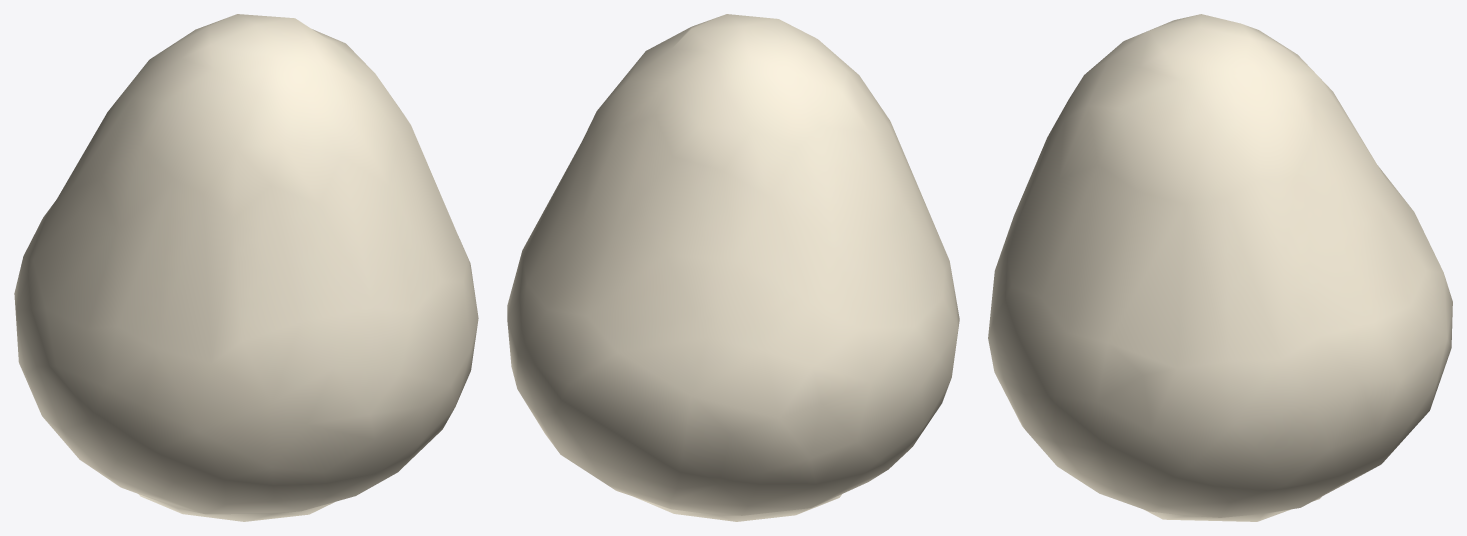
The picture shows the model from 3 angles, left to right: view 1: azimuth 30°, elevation 25°; view 2: azimuth 150°, elevation 25°; view 3: azimuth 270°, elevation 25°; orthographic projection. The views are drawn at different scales.
Bounding box in the file's own units: 0.932 × 1.02 × 0.9419.
1 material, 1 textured.
